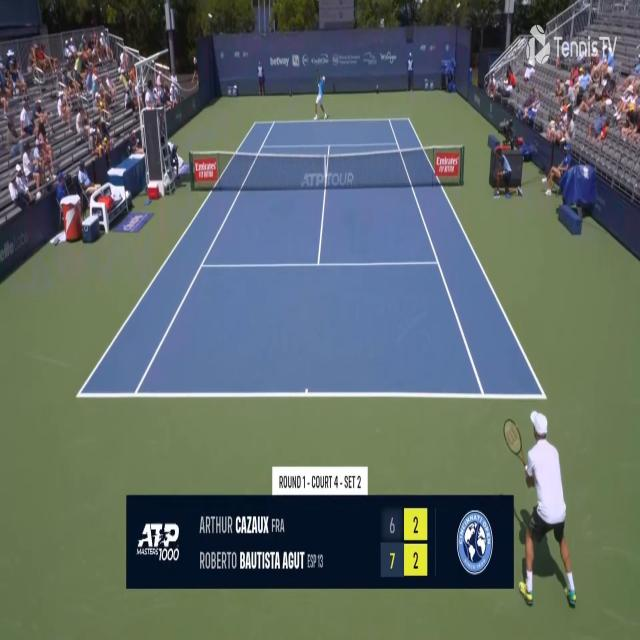tennis-player: (510, 405, 583, 611), (312, 70, 330, 124)
